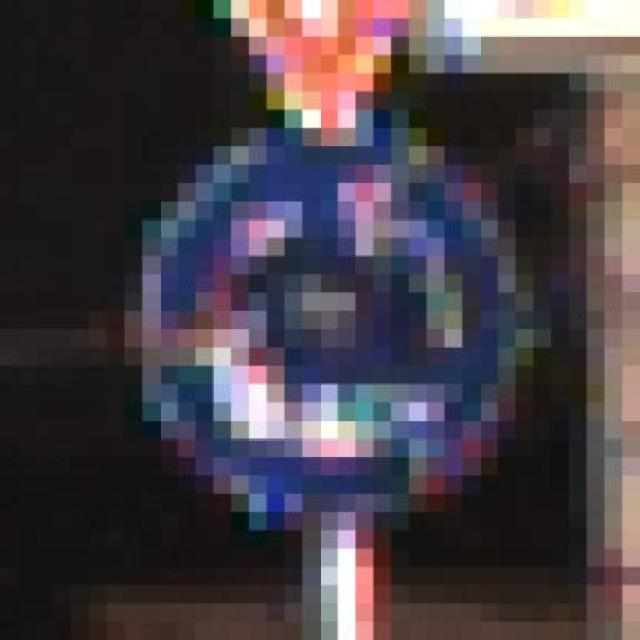Round-About: (106, 92, 569, 530)
